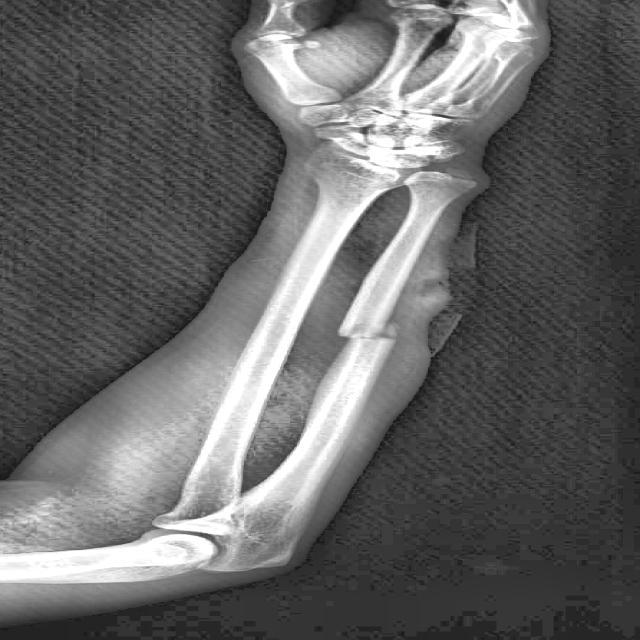fracture: (337, 322, 402, 344)
